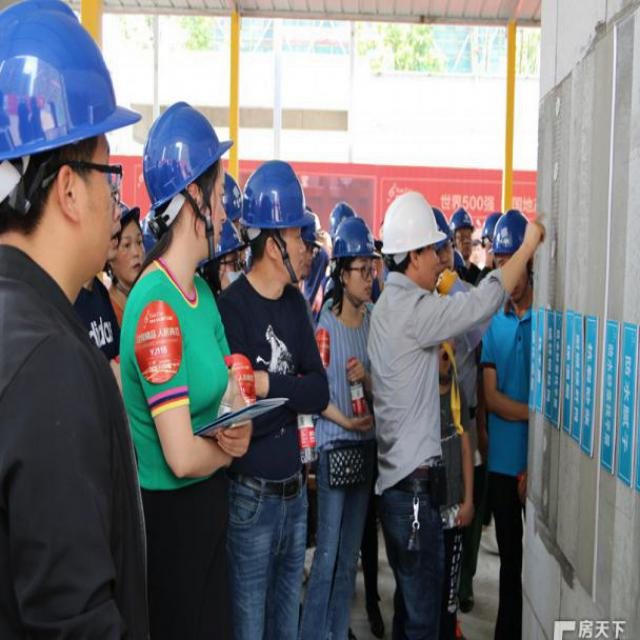helmet: (134, 87, 230, 275), (240, 154, 304, 292), (489, 202, 540, 312), (387, 178, 433, 287), (336, 208, 380, 304), (445, 198, 476, 268)
